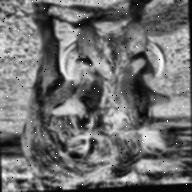boar: (10, 0, 173, 191)
